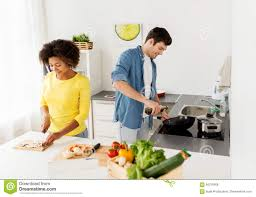Bad: (39, 26, 171, 104)
